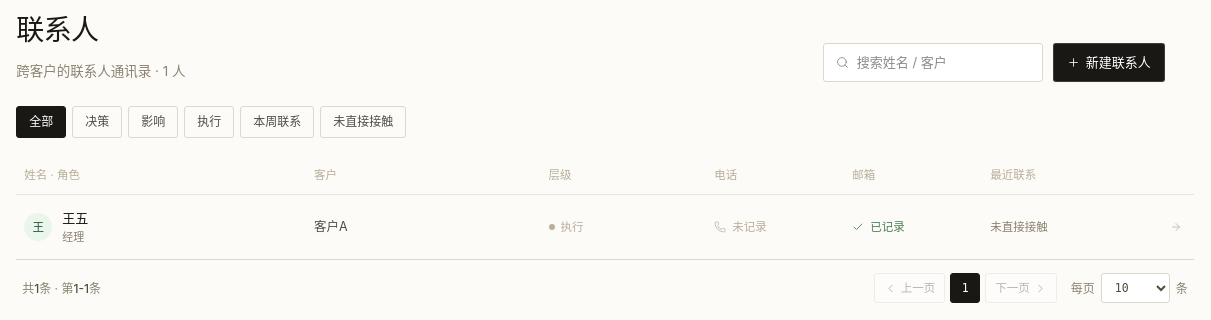
Scenario: Contacts › keeps the newest contact search when requests finish out of order
In the field named "搜索联系人": [943, 63] box [857,52,1030,73], type "旧联系人"
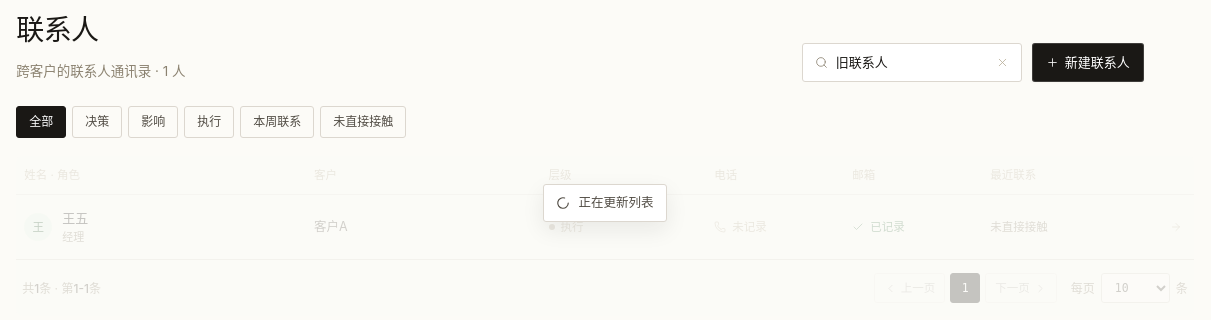
Replace the text in the field named "搜索联系人" with "新联系人": [912, 63] box [836,52,988,73]
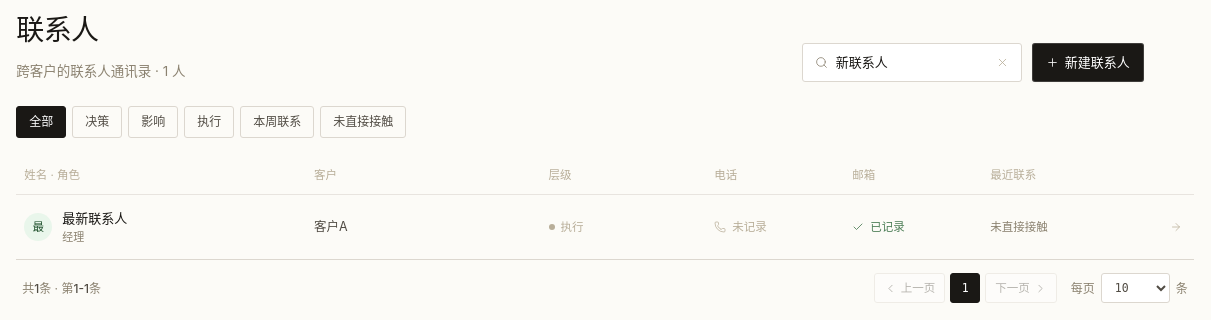
expect the text "最新联系人" is shown: met, box [62,208,127,229]
